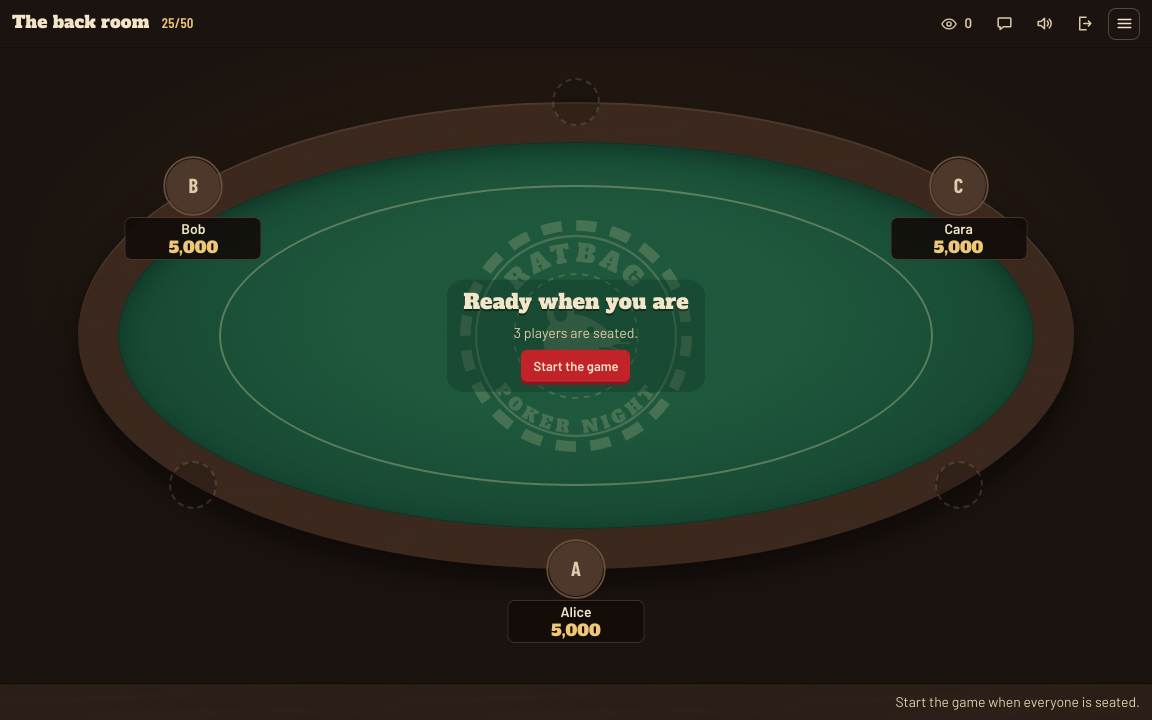
Test: host controls › shows host tools in the table menu only for the host
Step 1. Click the button named "Table menu" → (1124, 24), box [1108,8,1140,40]
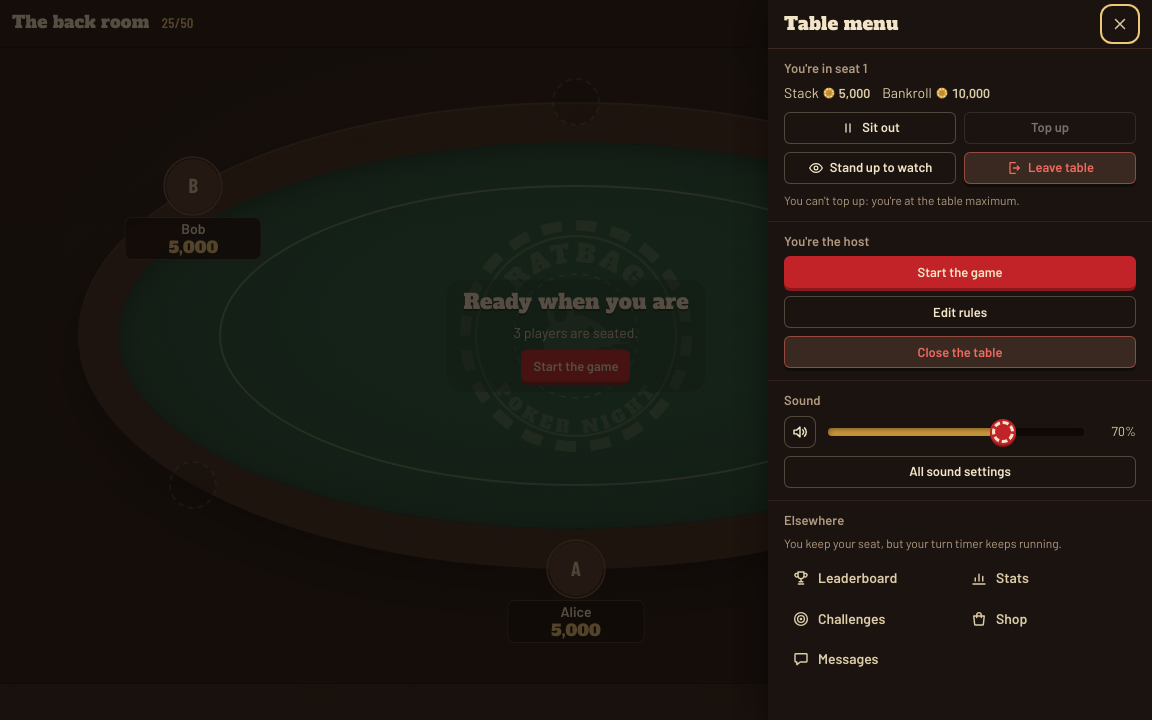
Expected: the button "Edit rules" is shown, [784,296,1136,328]
Expected: the button "Close the table" is shown, [784,336,1136,368]
